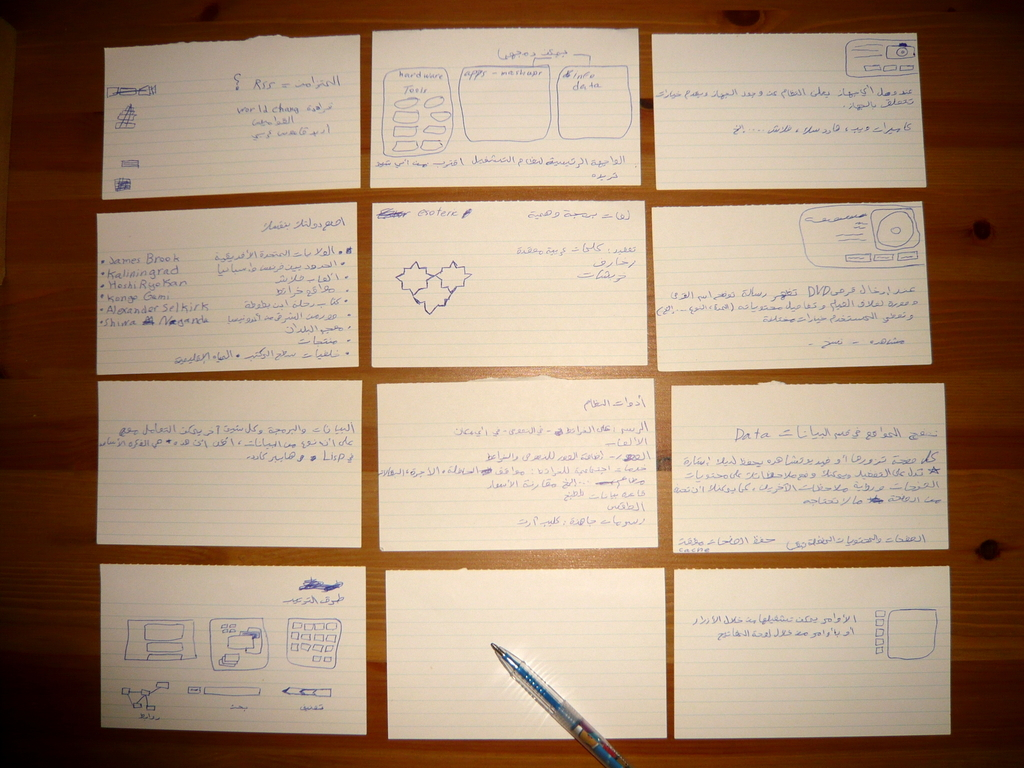Pen: (492, 643, 628, 766)
